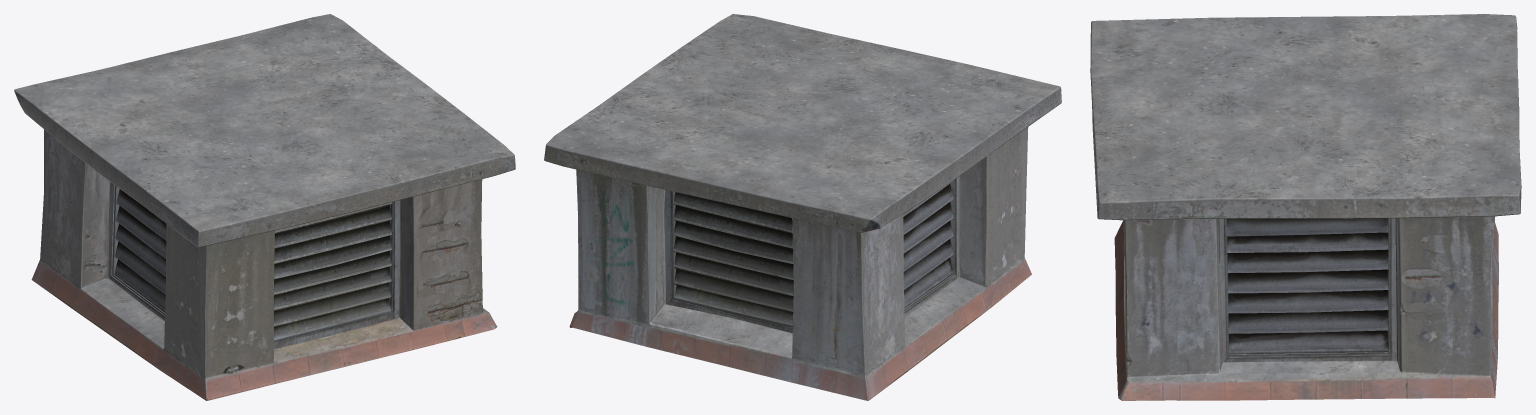
The model's file is sm_VentilationShaft_01_02.fbx.
3 renders of one model, left to right at view 1: azimuth 30°, elevation 25°; view 2: azimuth 150°, elevation 25°; view 3: azimuth 270°, elevation 25°, orthographic. The views are drawn at different scales.
Parts seen in each view (by area): view 1: sm_VentilationShaft_01_02_LOD0; view 2: sm_VentilationShaft_01_02_LOD0; view 3: sm_VentilationShaft_01_02_LOD0.
Boxes of the visible parts, <box> form: sm_VentilationShaft_01_02_LOD0: <box>14,14,515,400</box>; sm_VentilationShaft_01_02_LOD0: <box>544,14,1061,400</box>; sm_VentilationShaft_01_02_LOD0: <box>1090,14,1521,400</box>.
Size of the model in its own units: 140 by 138 by 76.82.
